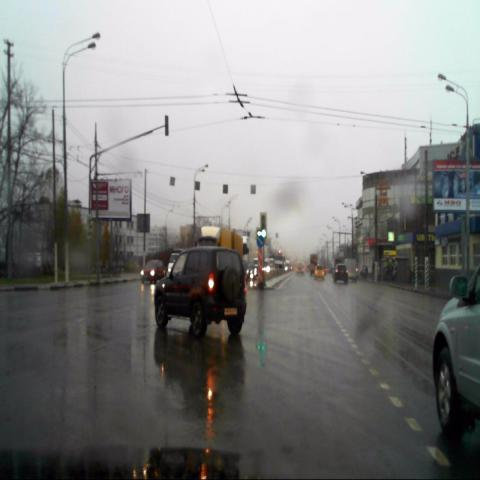4_2_1: (256, 235, 264, 247)
